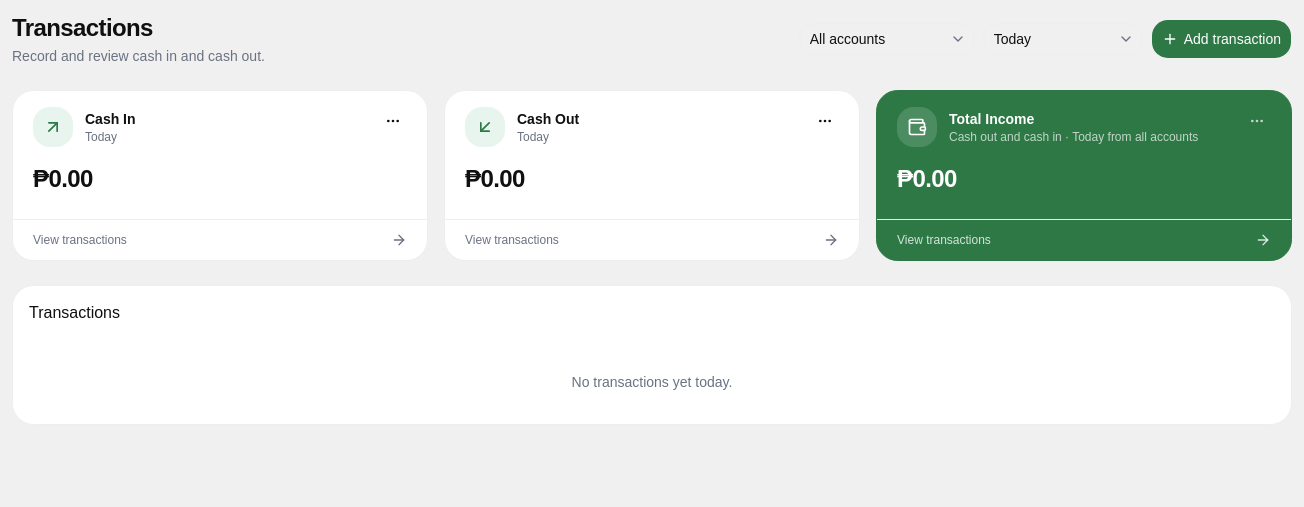
Transactions page account filter › filters by the selected account and keeps it in the URL
Click the dropdown named "Filter by account" at coordinates (887, 39), box [799, 23, 975, 55]
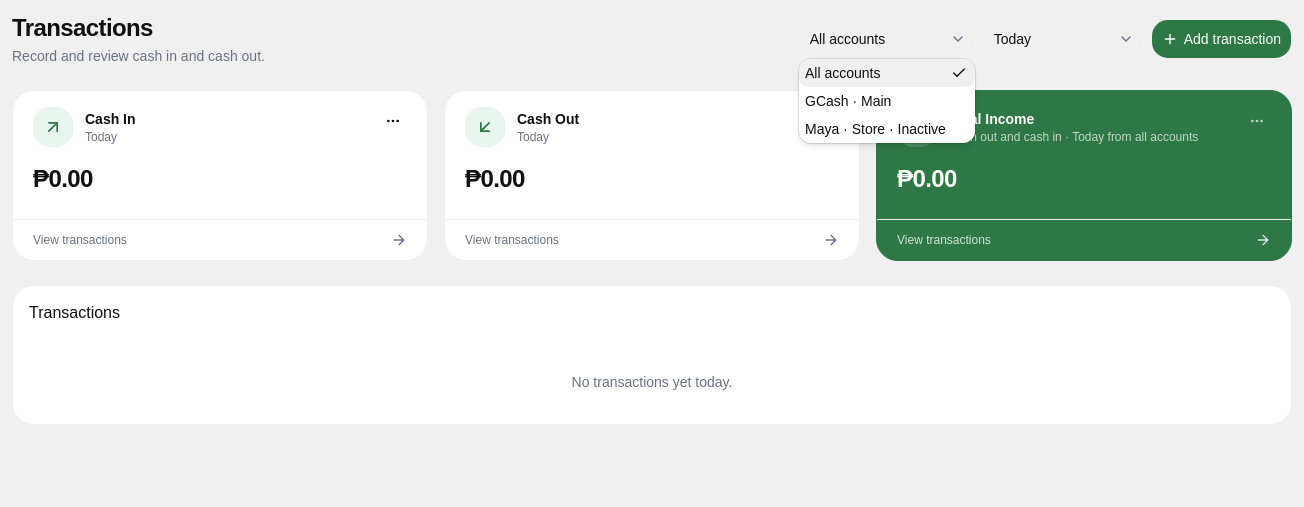
Click the option "GCash · Main" at coordinates (848, 101), box [805, 93, 891, 109]
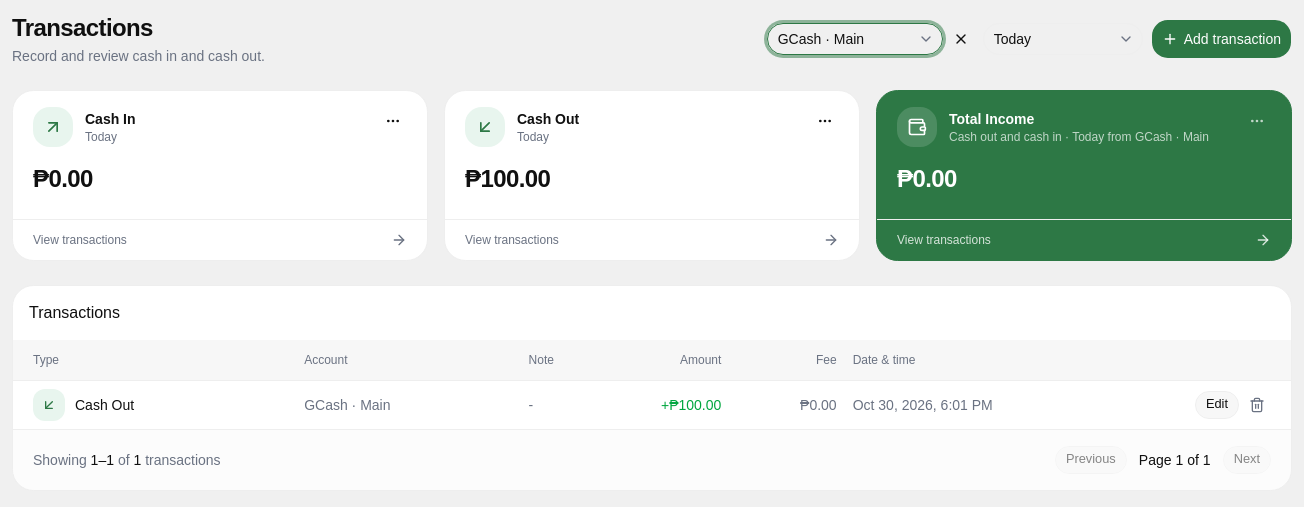
Now the text "+₱100.00" is shown, box [562, 380, 729, 428]
